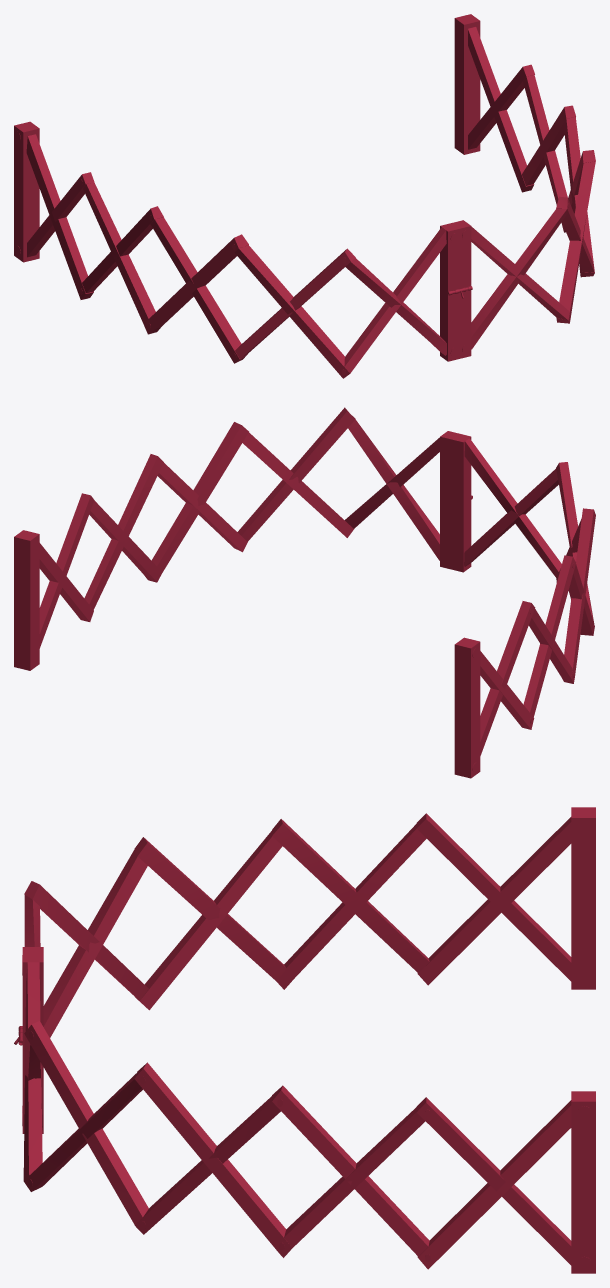
The model's file is babypen.obj.
The picture shows the model from 3 angles, top to bottom: view 1: azimuth 30°, elevation 25°; view 2: azimuth 150°, elevation 25°; view 3: azimuth 270°, elevation 25°; orthographic projection. The views are drawn at different scales.
Visible parts, largest first — view 1: pCylinder27 polySurface15, pCube13 polySurface30, pCube13 polySurface37, pCube13 polySurface31, pCube13 polySurface33, pCube13 polySurface27, pCube13 polySurface34, pCube13 polySurface29, pCylinder27 polySurface20, pCylinder27 polySurface18, pCube13 polySurface26, pCylinder27 polySurface22 (+11 smaller); view 2: pCube13 polySurface30, pCylinder27 polySurface15, pCylinder27 polySurface11, pCube13 polySurface31, pCylinder27 polySurface21, polySurface13 pCylinder27, pCube13 polySurface34, pCylinder27 polySurface20, polySurface28 pCube13, pCube13 polySurface26, pCylinder27 polySurface17, pCube13 polySurface32 (+11 smaller); view 3: pCylinder27 polySurface11, pCube13 polySurface30, pCylinder27 polySurface21, pCylinder27 polySurface15, pCube13 polySurface33, pCylinder27 polySurface18, polySurface13 pCylinder27, pCube13 polySurface37, pCube13 polySurface27, polySurface28 pCube13, pCube13 polySurface32, pCylinder27 polySurface17 (+9 smaller).
Part boxes in pixels (box(x1,y1,x2,y2)): pCylinder27 polySurface15: box(454, 14, 480, 154); pCube13 polySurface30: box(14, 121, 39, 262); pCube13 polySurface37: box(234, 245, 350, 378); pCube13 polySurface31: box(440, 223, 460, 361); pCube13 polySurface33: box(26, 134, 93, 299); pCube13 polySurface27: box(150, 217, 247, 363); pCube13 polySurface34: box(344, 227, 446, 373); pCube13 polySurface29: box(83, 182, 161, 334); pCylinder27 polySurface20: box(471, 209, 568, 349); pCylinder27 polySurface18: box(468, 27, 534, 192); pCube13 polySurface26: box(144, 234, 248, 333); pCylinder27 polySurface22: box(556, 161, 595, 323); pCube13 polySurface30: box(454, 637, 480, 778); pCylinder27 polySurface15: box(14, 530, 39, 670); pCylinder27 polySurface11: box(151, 422, 248, 572); pCube13 polySurface31: box(451, 433, 471, 572); pCylinder27 polySurface21: box(236, 407, 355, 549); polySurface13 pCylinder27: box(84, 454, 163, 609); pCube13 polySurface34: box(464, 438, 561, 577); pCylinder27 polySurface20: box(342, 418, 439, 560); polySurface28 pCube13: box(523, 555, 575, 717); pCube13 polySurface26: box(564, 508, 595, 681); pCylinder27 polySurface17: box(39, 493, 94, 648); pCube13 polySurface32: box(480, 601, 535, 755); pCylinder27 polySurface11: box(134, 1062, 290, 1256); pCube13 polySurface30: box(571, 807, 595, 989); pCylinder27 polySurface21: box(24, 1021, 148, 1224); pCylinder27 polySurface15: box(571, 1091, 595, 1273); pCube13 polySurface33: box(417, 817, 571, 985); pCylinder27 polySurface18: box(417, 1100, 571, 1269); polySurface13 pCylinder27: box(272, 1085, 429, 1256); pCube13 polySurface37: box(43, 849, 147, 1037); pCube13 polySurface27: box(135, 831, 282, 1010); polySurface28 pCube13: box(272, 819, 429, 973); pCube13 polySurface32: box(416, 813, 571, 981); pCylinder27 polySurface17: box(416, 1097, 571, 1265).
Bounding box in the file's own units: 7.28 × 2 × 6.08.
3 materials, 3 textured.
